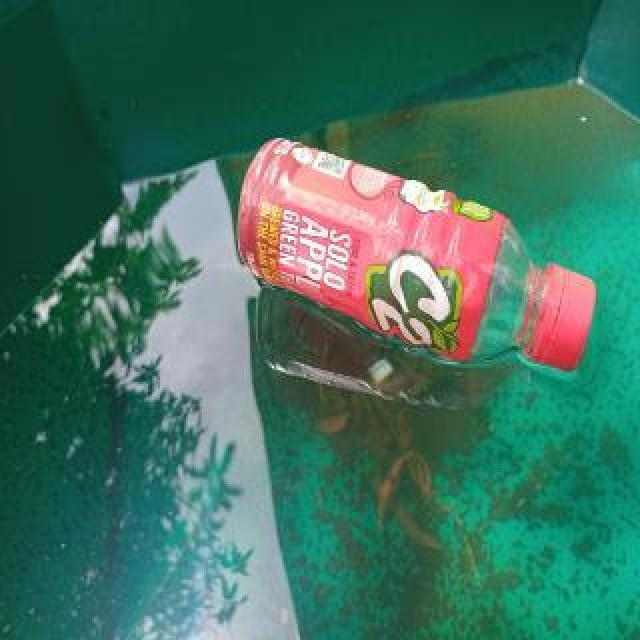bottle: (236, 135, 598, 375)
